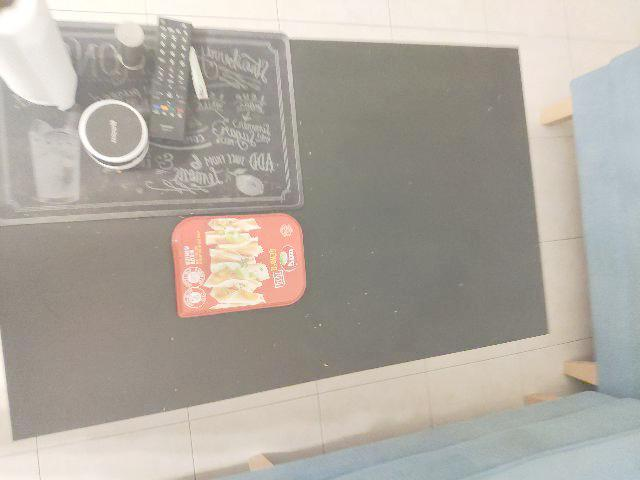cheese: (172, 209, 301, 322)
